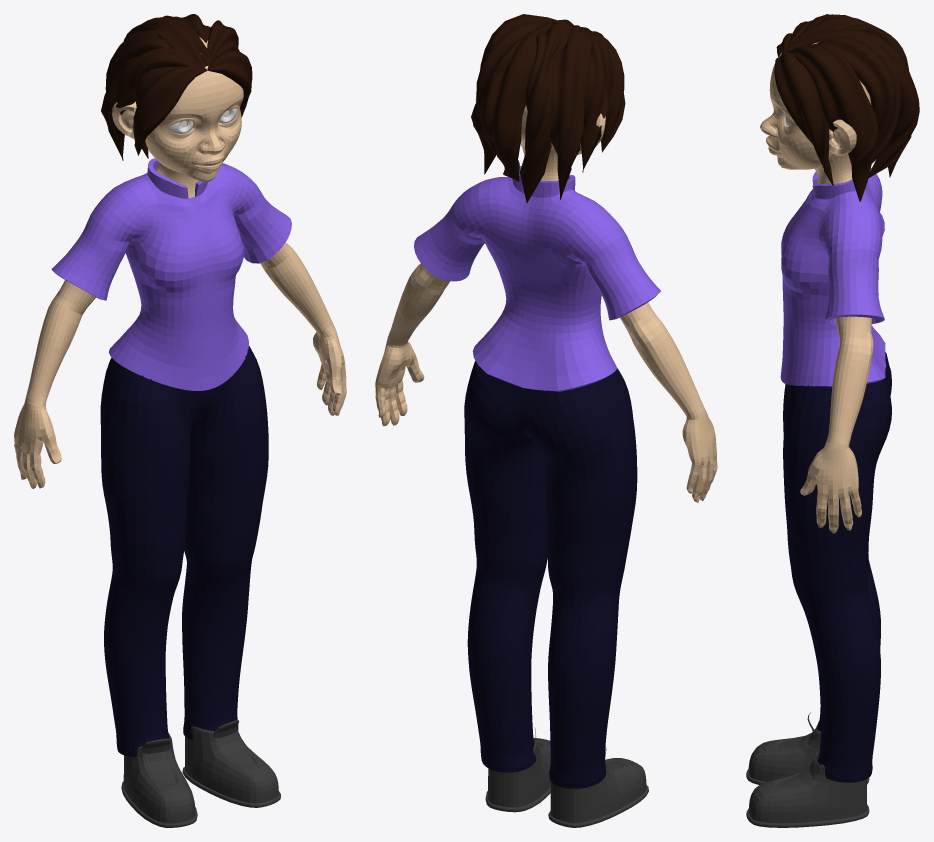
File: Irina_face14.glb
The picture shows the model from 3 angles, left to right: view 1: azimuth 30°, elevation 25°; view 2: azimuth 150°, elevation 25°; view 3: azimuth 270°, elevation 25°; orthographic projection. The views are drawn at different scales.
Parts seen in each view (by area): view 1: Trousers, Shirt, Body, GN Instance (×6), Shoe.L, Shoe.R; view 2: Trousers, Shirt, GN Instance (×7), Body, Shoe.R, Shoe.L; view 3: Trousers, Shirt, GN Instance (×5), Body, Shoe.L, Shoe.R.
Part boxes in pixels (box(x1,y1,x2,y2)): Trousers: box(100, 346, 268, 757); Shirt: box(51, 158, 291, 390); Body: box(14, 37, 346, 488); GN Instance (×6): box(101, 17, 252, 160); Shoe.L: box(182, 720, 280, 807); Shoe.R: box(121, 733, 197, 827); Trousers: box(464, 361, 637, 788); Shirt: box(414, 166, 660, 391); GN Instance (×7): box(471, 14, 625, 202); Body: box(375, 97, 717, 502); Shoe.R: box(548, 746, 648, 827); Shoe.L: box(485, 727, 550, 812); Trousers: box(783, 352, 891, 782); Shirt: box(780, 168, 886, 386); GN Instance (×5): box(774, 14, 919, 201); Body: box(760, 42, 873, 533); Shoe.L: box(746, 748, 869, 827); Shoe.R: box(746, 712, 869, 784).
Size of the model in its own units: 0.7209 by 1.64 by 0.3343.
